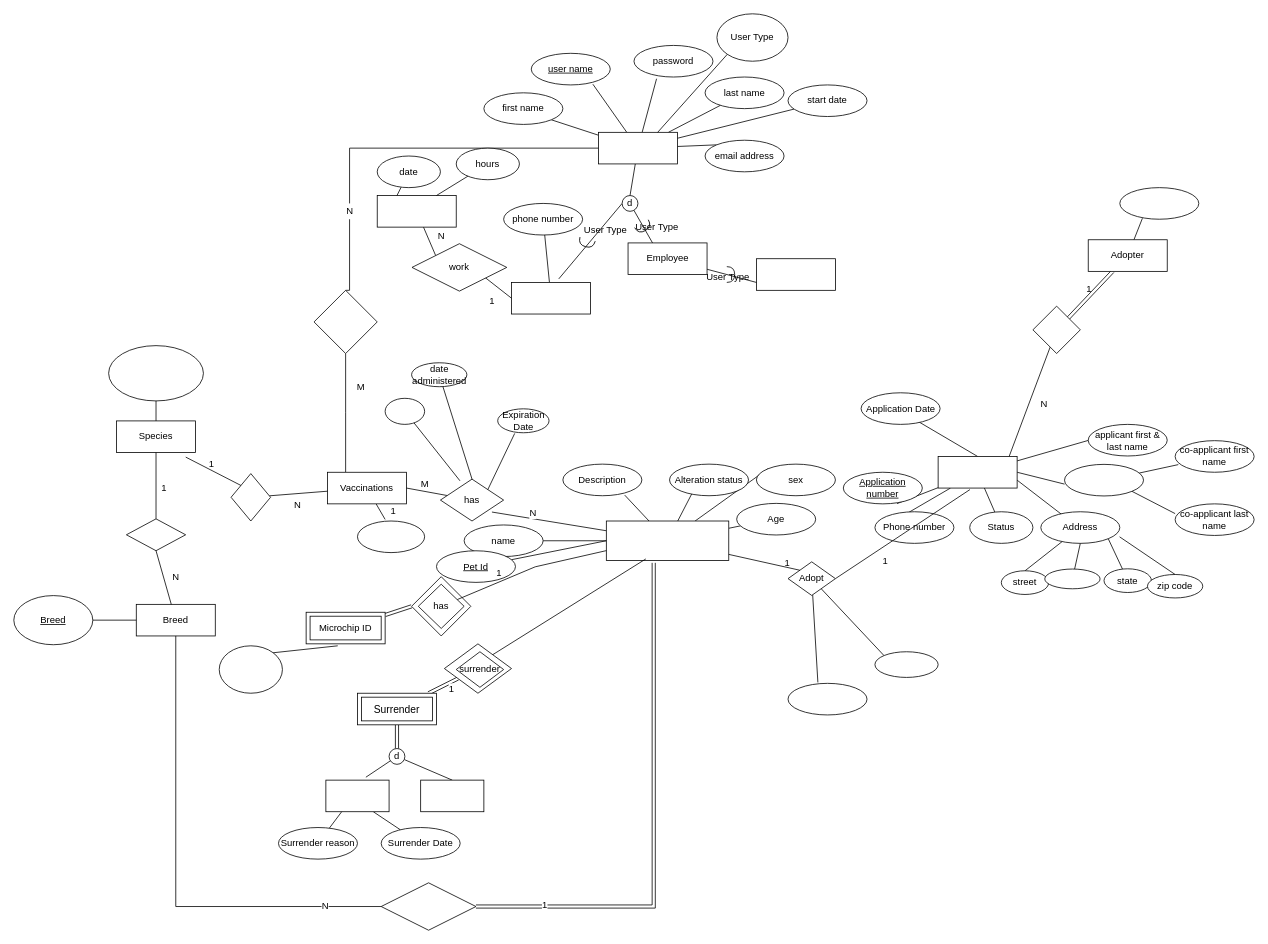
Image size: 1268x944. Some labels were removed from this diagram. Here are the shapes that lost their labels. From the top down, the centre of each, then its label:
At [637,148]: "User".
At [416,211]: "number of hours".
At [1159,203]: "email".
At [795,274]: "Super User (Inge)".
At [551,298]: "Volunteer".
At [345,322]: "Enter".
At [1056,329]: "Apply".
At [155,373]: "Species Latin Name".
At [404,411]: "vaccination number".
At [977,472]: "Application".
At [1104,480]: "co-applicant name".
At [250,497]: "required for adoption".
At [156,534]: "belong".
At [391,536]: "Vaccine type".
At [667,540]: "Animal".
At [1072,578]: "city".
At [250,669]: "MidroID".
At [906,664]: "adoption date".
At [827,699]: "adoption fee".
At [357,795]: "Owner".
At [452,795]: "Animal Control".
At [428,906]: "is".
